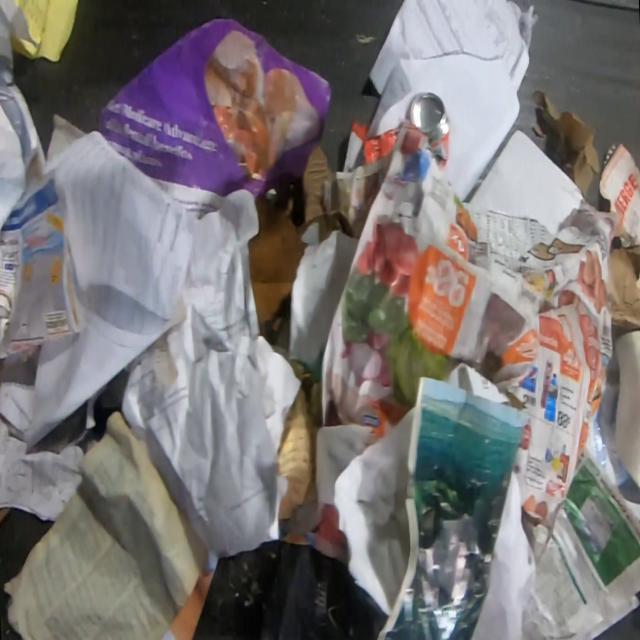cardboard: (248, 196, 310, 328), (530, 89, 601, 198), (608, 243, 640, 331)
metal: (407, 90, 451, 170)
